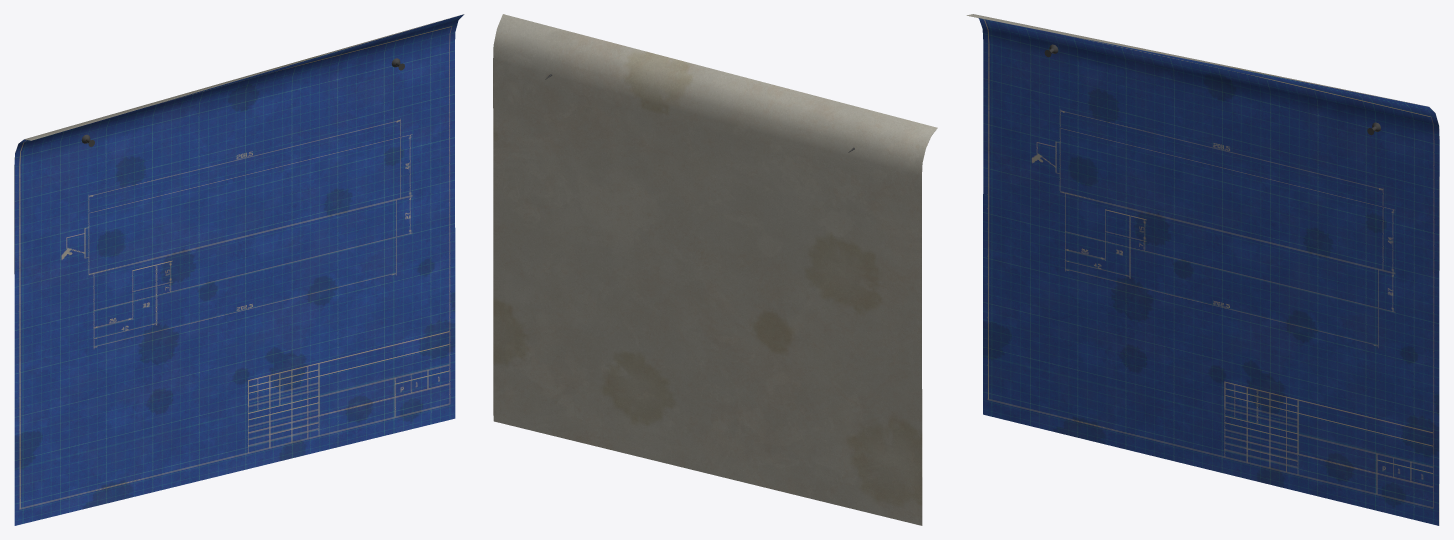
File: Blueprints13.FBX
3 views of the same model, side by side, from view 1: azimuth 30°, elevation 25°; view 2: azimuth 150°, elevation 25°; view 3: azimuth 330°, elevation 25° (orthographic). The views are drawn at different scales.
Visible parts, largest first — view 1: Blueprints13; view 2: Blueprints13; view 3: Blueprints13.
Part boxes in pixels (<box>): Blueprints13: <box>14,14,464,525</box>; Blueprints13: <box>493,14,937,525</box>; Blueprints13: <box>966,14,1439,525</box>.
Size of the model in its own units: 96.79 by 86.4 by 8.73.
